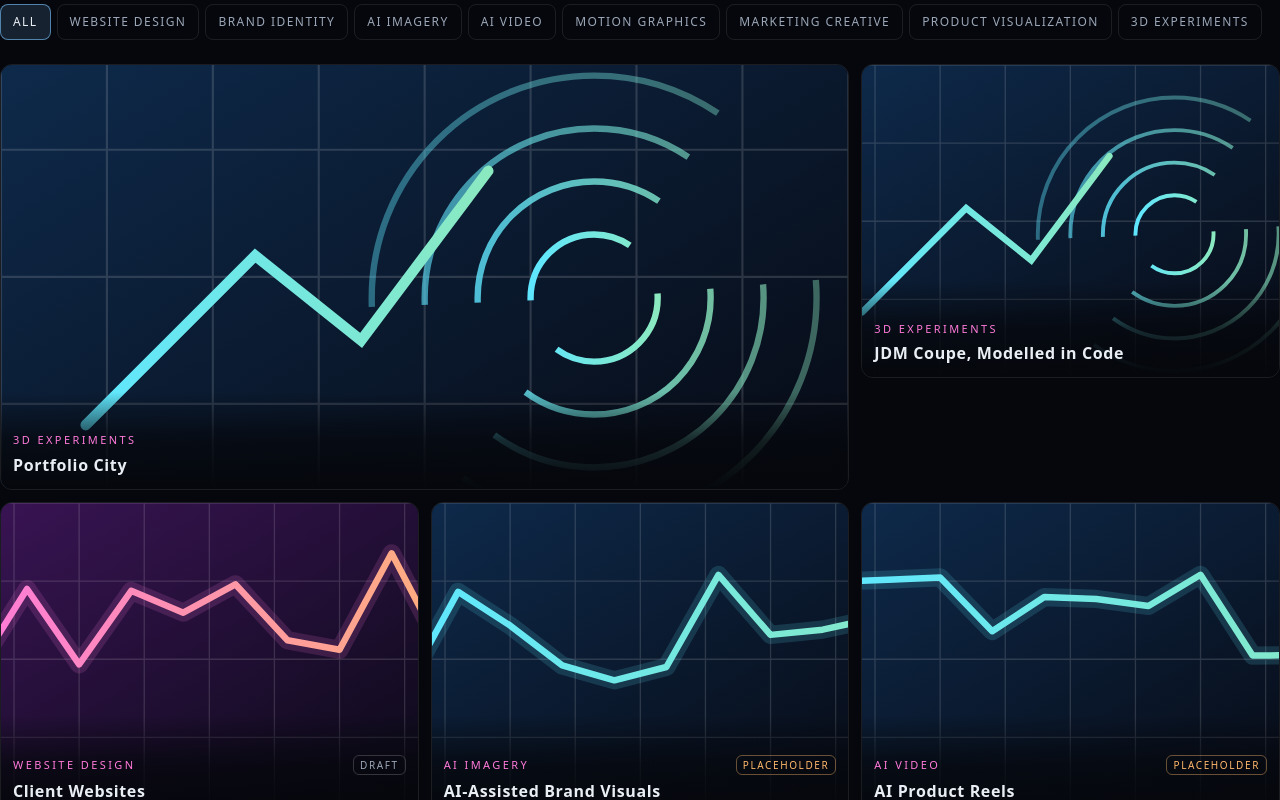
Test case: other sections › opens creative work in a full-size viewer with keyboard support
Click the button "3D Experiments Portfolio City".
click(425, 277)  # box [0,64,849,490]
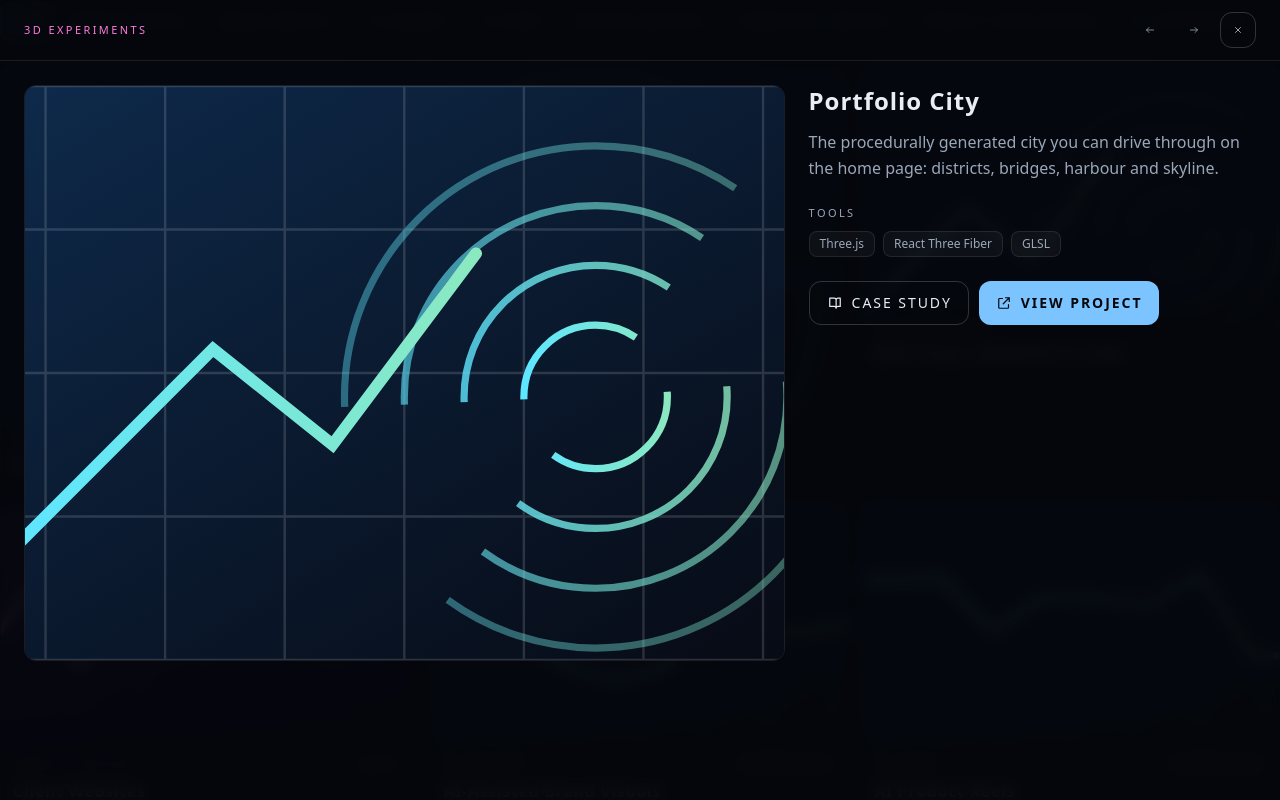
Press ArrowRight in the dialog with test id "creative-lightbox"
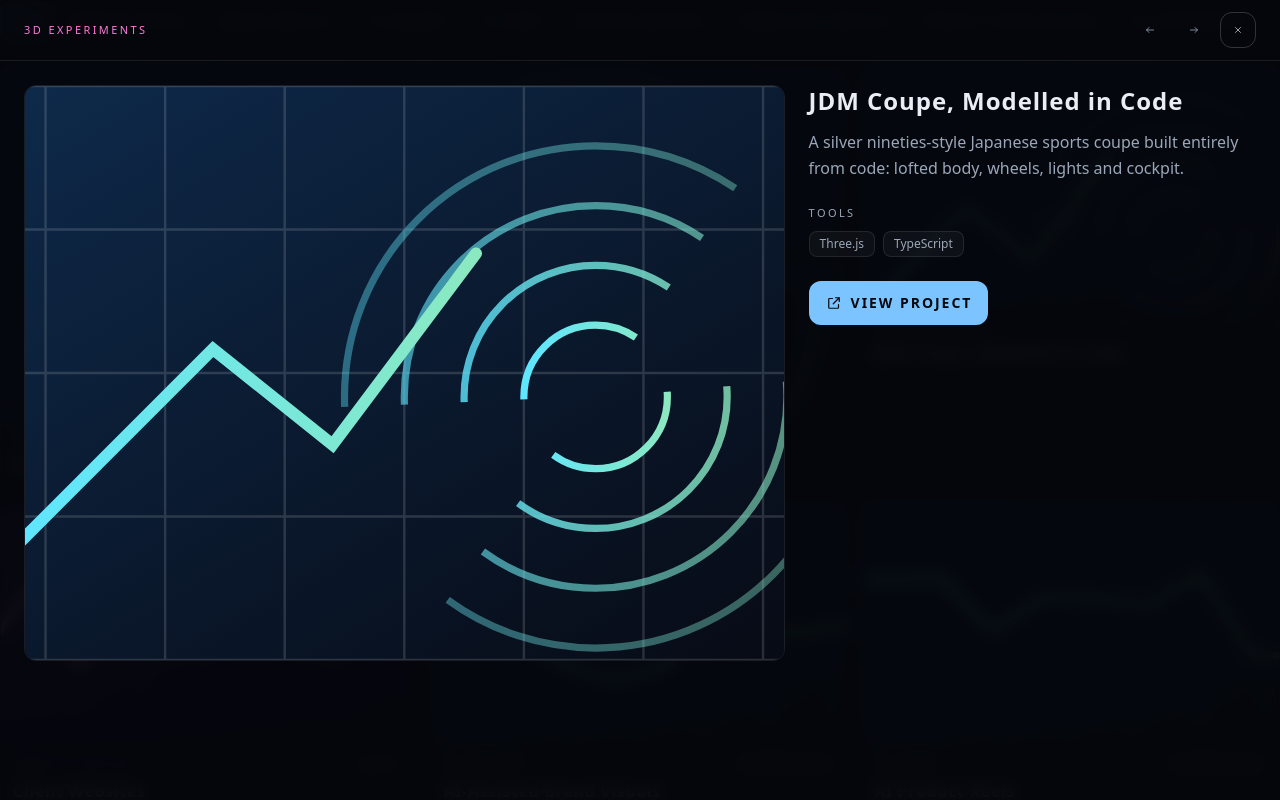
Check: the heading does not show "Portfolio City"
Press Escape in the dialog with test id "creative-lightbox"
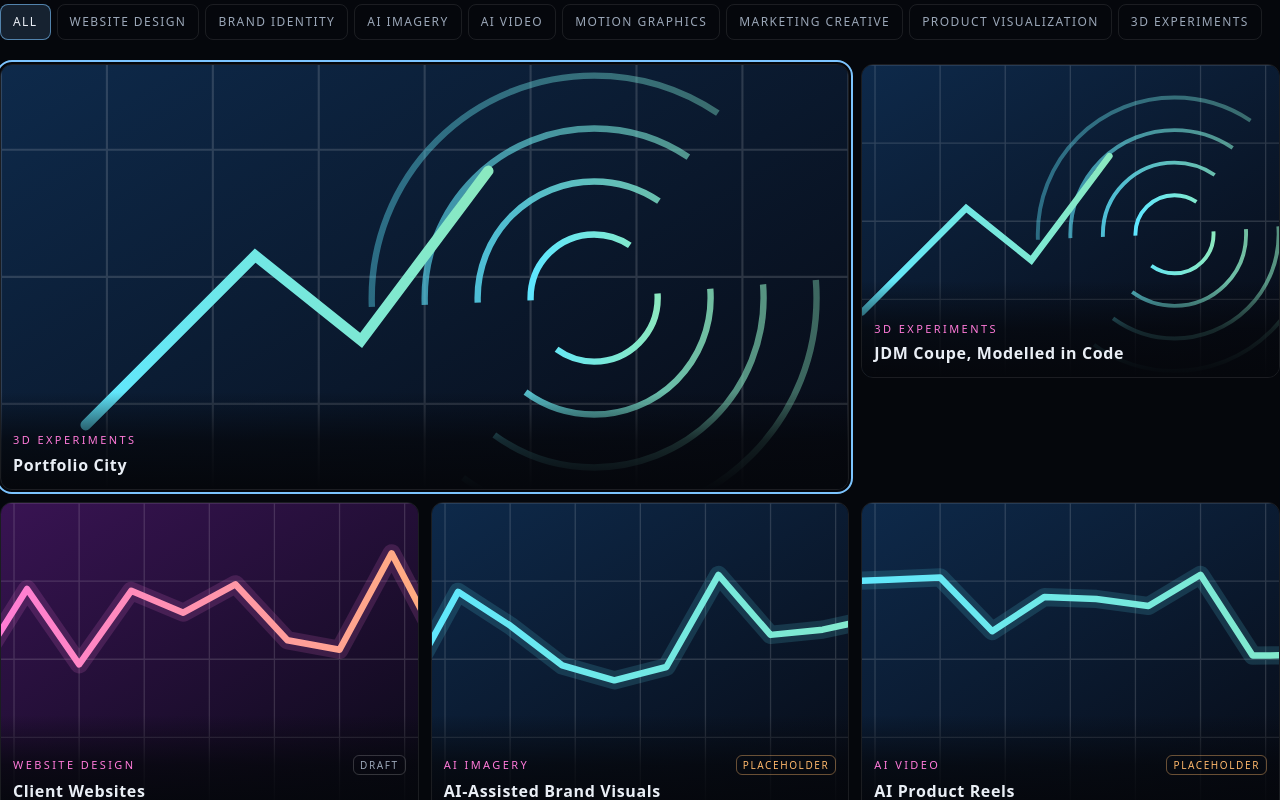
Check: the dialog with test id "creative-lightbox" is gone
